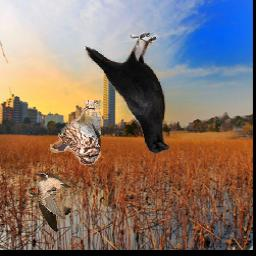Crow: (85, 31, 171, 155)
Sparrow: (50, 101, 101, 166)
Swallow: (29, 172, 72, 232)
